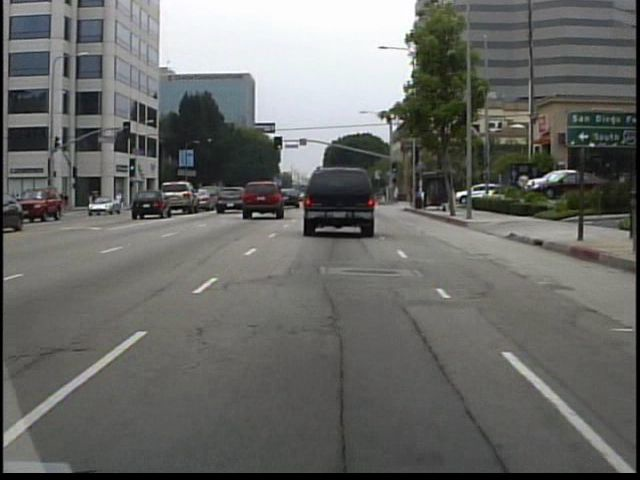person: (115, 188, 128, 212), (392, 183, 404, 205)
